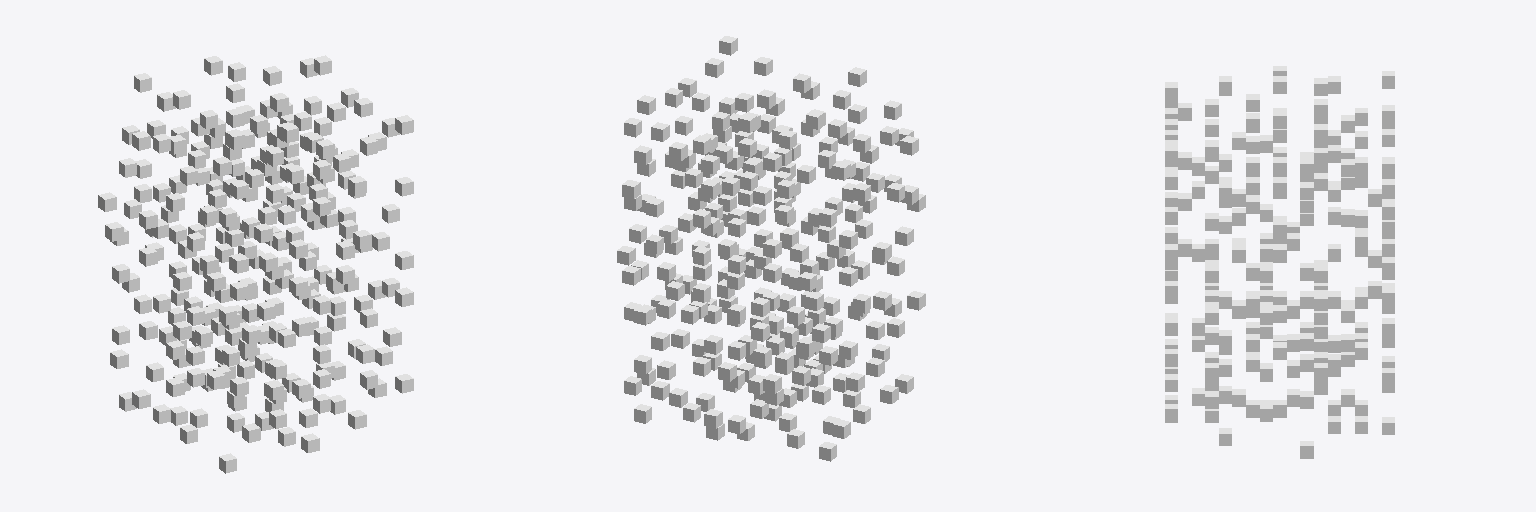
The model's file is fire-07.obj.
The picture shows the model from 3 angles: view 1: azimuth 30°, elevation 25°; view 2: azimuth 150°, elevation 25°; view 3: azimuth 270°, elevation 25°; orthographic projection.
Bounding box in the file's own units: 17 × 25 × 17.